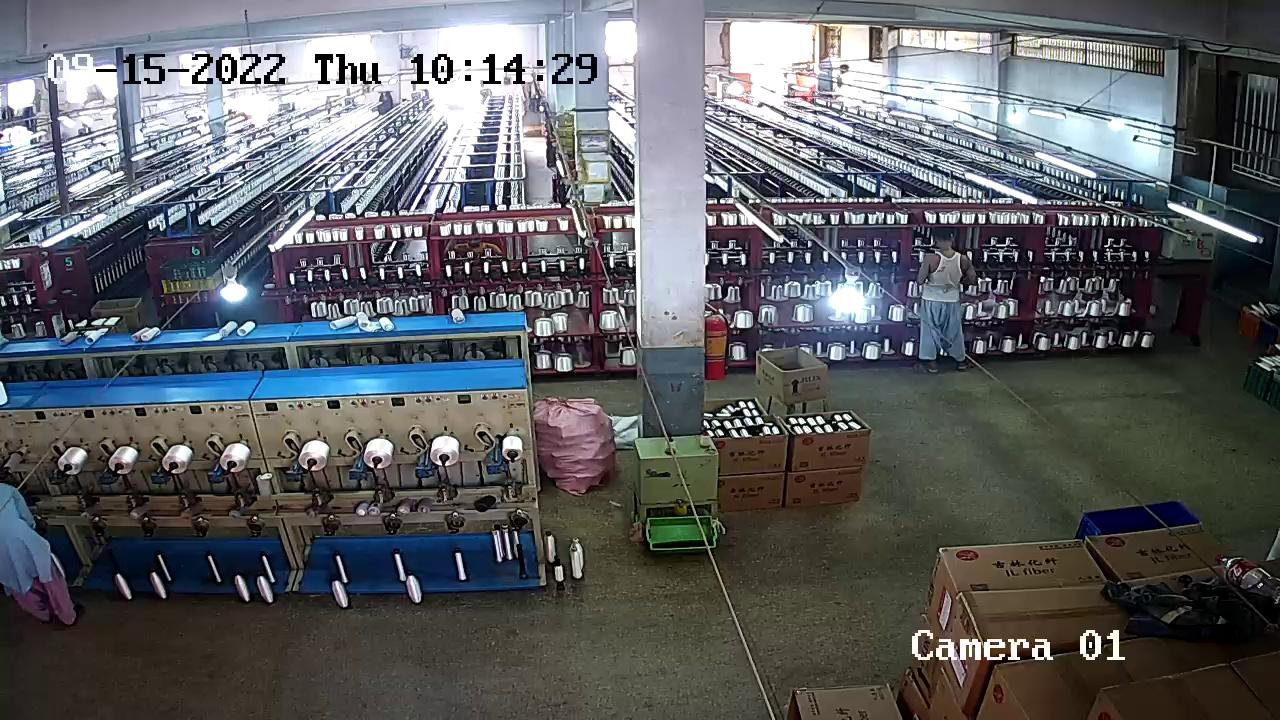person: (0, 470, 86, 630), (919, 220, 971, 371)
